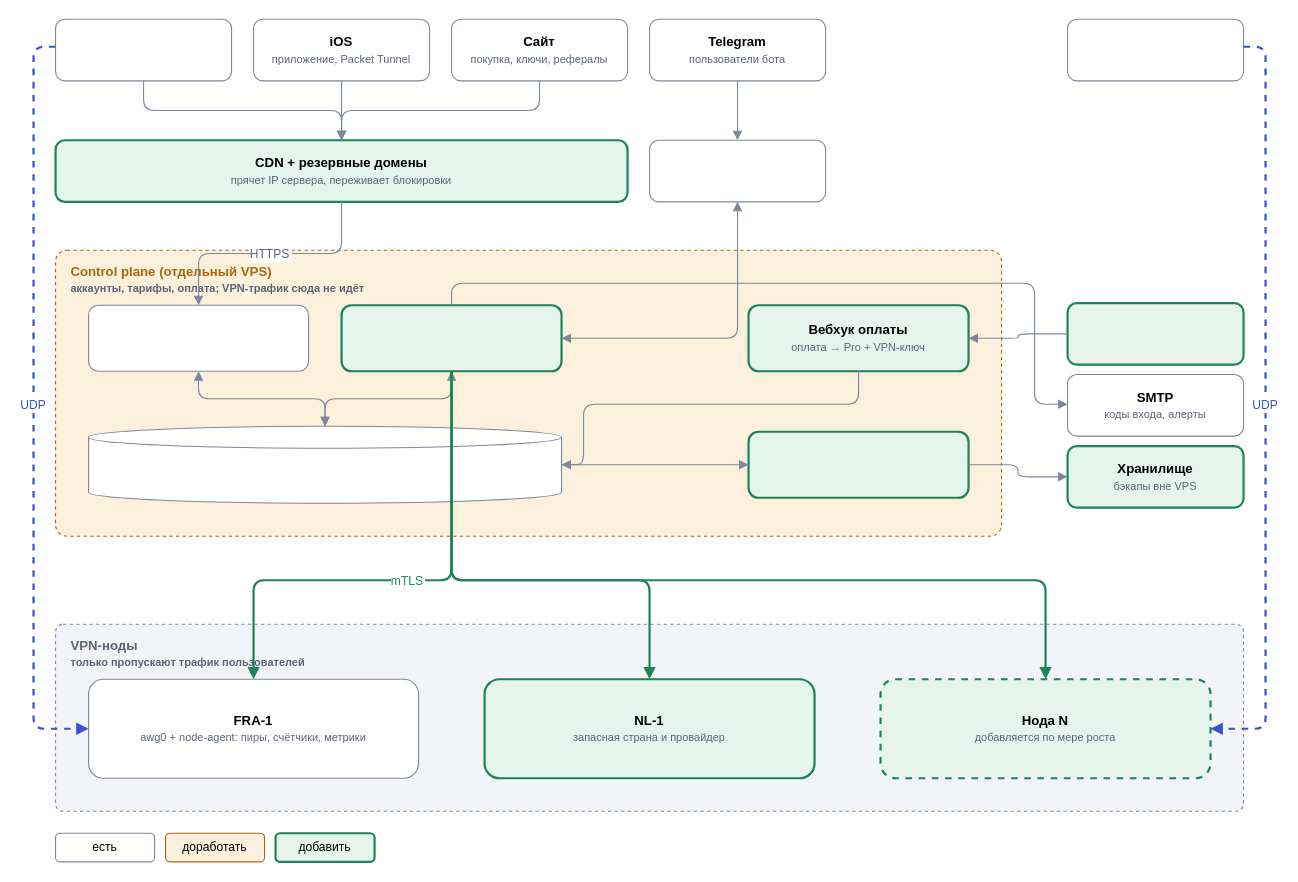
Image size: 1298x882. Some labels were removed from this diagram. The centre of each missing label's shape, as x and y in pixels:
AmneziaVPN / WG чужие приложения по VPN-ключу: the point at 1155,49
Android приложение, туннель AmneziaWG: the point at 143,49
API вход, заказы, ключи, админка: the point at 198,337
PostgreSQL источник истины: аккаунты, подписки, пиры: the point at 324,464
Telegram Bot API сообщения бота: the point at 737,170
Worker бот, учёт трафика, мониторинг, сверка пиров: the point at 451,338
Бэкапы pg_dump каждую ночь: the point at 858,464
Платёжка принимает деньги: the point at 1155,333
